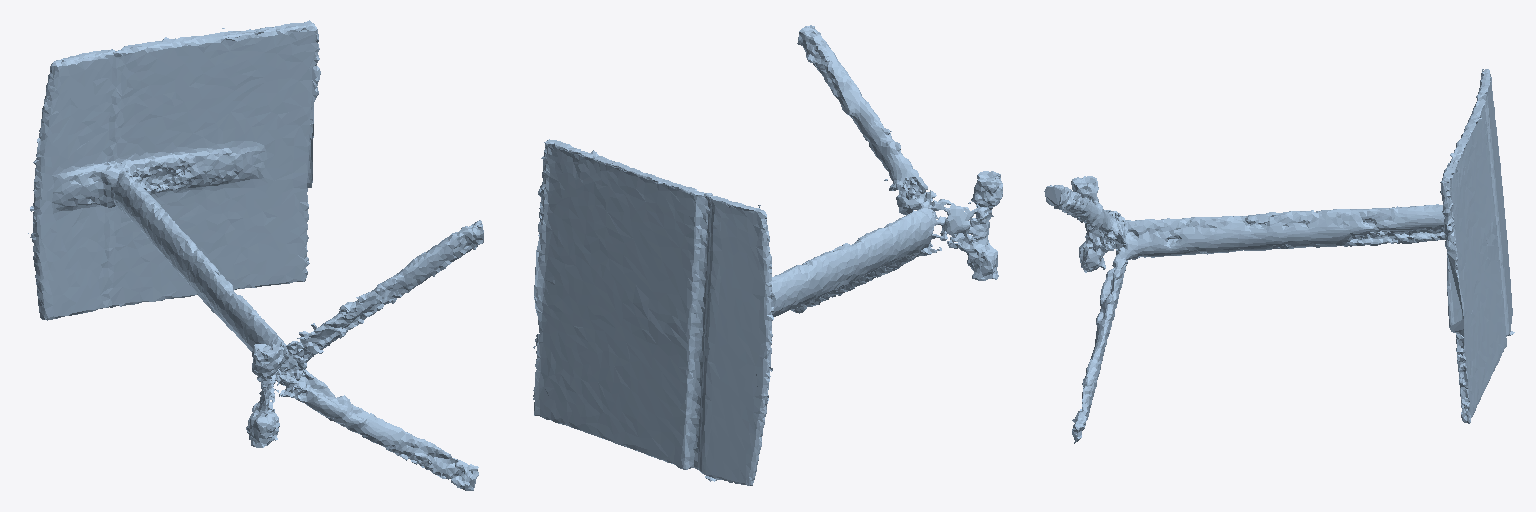
The robot description file, URDF, robot "tablesmall.urdf":
<?xml version="1.0" ?>
<robot name="tablesmall.urdf">
  <dynamics damping="0.5" friction="0.9"/>
  <link name="baseLink">
    <contact>
      <lateral_friction value="0.9"/>
      <rolling_friction value="0.5"/>
      <stiffness value="30000"/>
      <damping value="1000"/>
    </contact>
    <visual>
      <origin rpy="0 0 0" xyz="0 0 0"/>
      <geometry>
        <mesh filename="objects/tablesmall/tablesmall.obj" scale="1.0 1.0 1.0"/>
      </geometry>
       <material name="mat">
        <color rgba="0.7 0.8 0.9 1"/>
      </material>
    </visual>
    <collision>
      <origin rpy="0 0 0" xyz="0 0 0"/>
      <geometry>
         <mesh filename="objects/tablesmall/tablesmall.obj" scale="1.0 1.0 1.0"/>
      </geometry>
    </collision>
  </link>
</robot>

--- Facts derived from the render (not from the file) ---
Views: 3 orthographic renders of the robot side by side, from view 1: azimuth 30°, elevation 25°; view 2: azimuth 150°, elevation 25°; view 3: azimuth 270°, elevation 25°.
Robot: tablesmall.urdf — 1 links, 0 joints (none); root link baseLink; default pose: every joint at zero.
Visible links, largest first — view 1: baseLink; view 2: baseLink; view 3: baseLink.
Boxes of the visible links, x1=… form: baseLink: x1=28, y1=20, x2=483, y2=490; baseLink: x1=533, y1=25, x2=1002, y2=485; baseLink: x1=1044, y1=69, x2=1514, y2=443.
Size in the robot's own frame: 0.4787 by 0.801 by 0.5447 metres.
Meshes: 1 distinct files referenced, 1 mesh visuals loaded (1 OBJ).
